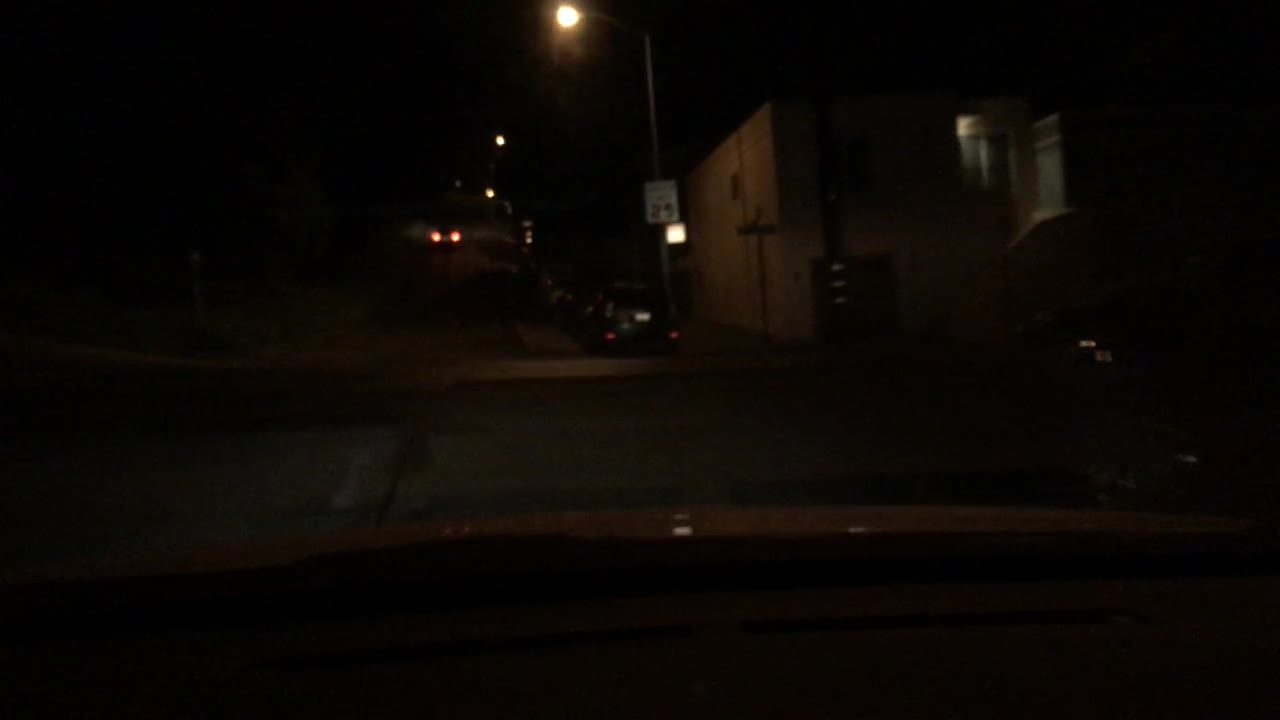car: (1022, 311, 1279, 512), (573, 276, 684, 360), (551, 279, 599, 328), (526, 255, 574, 302), (425, 221, 465, 254), (514, 238, 547, 271)
traffic sign: (642, 177, 679, 224), (735, 221, 779, 235)
